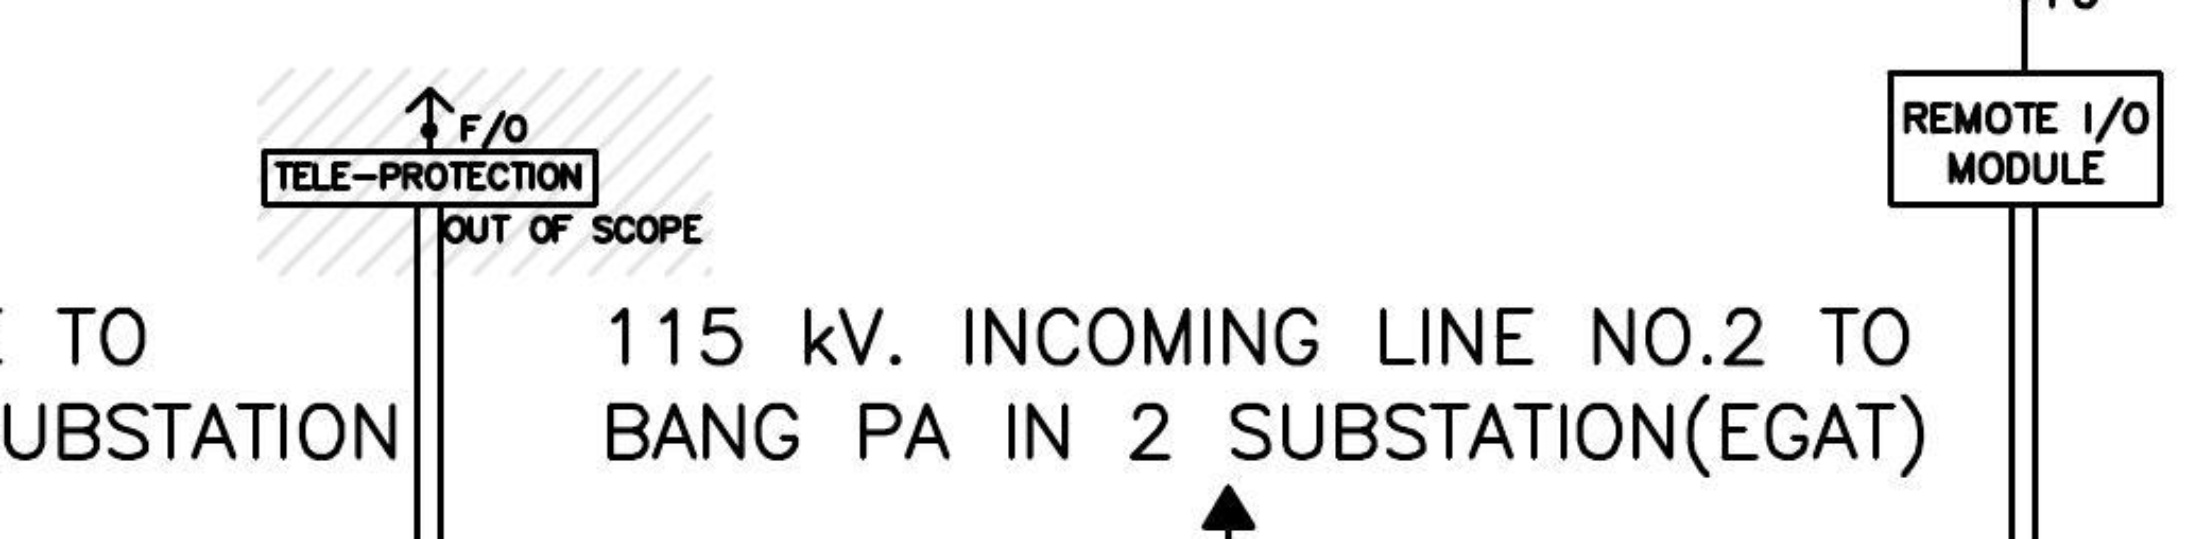remote_io_module: (1886, 70, 2165, 208)
tele_protection: (259, 147, 601, 209)
